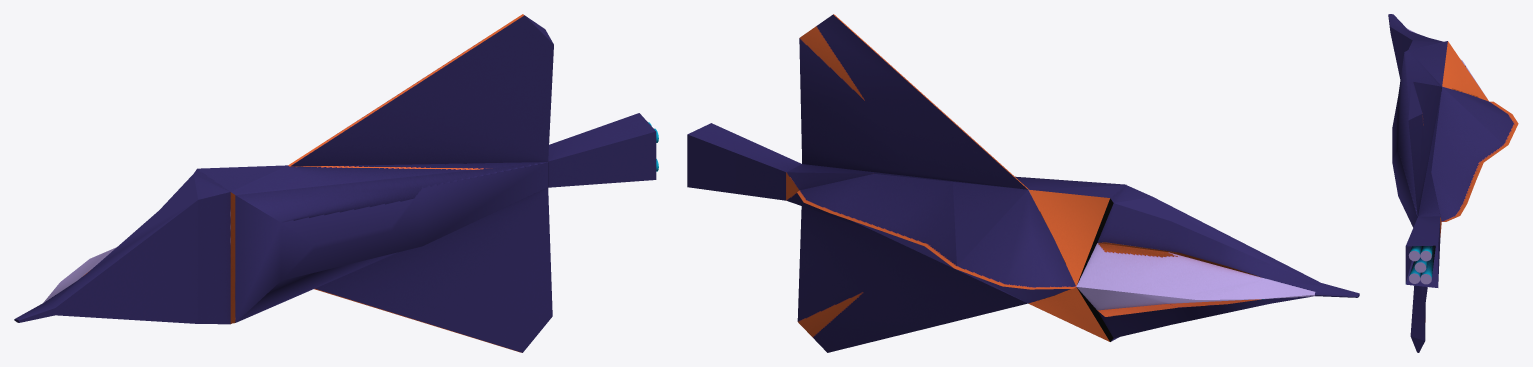
The model's file is Spaceship_whole.fbx.
3 views of the same model, side by side, from view 1: azimuth 30°, elevation 25°; view 2: azimuth 150°, elevation 25°; view 3: azimuth 270°, elevation 25° (orthographic). The views are drawn at different scales.
Visible parts, largest first — view 1: Ship; view 2: Ship; view 3: Ship.
Boxes of the visible parts, left/top/right/bottom form: Ship: left=14, top=14, right=658, bottom=352; Ship: left=687, top=14, right=1359, bottom=352; Ship: left=1388, top=14, right=1518, bottom=352.
Bounding box in the file's own units: 1657 × 825 × 360.
